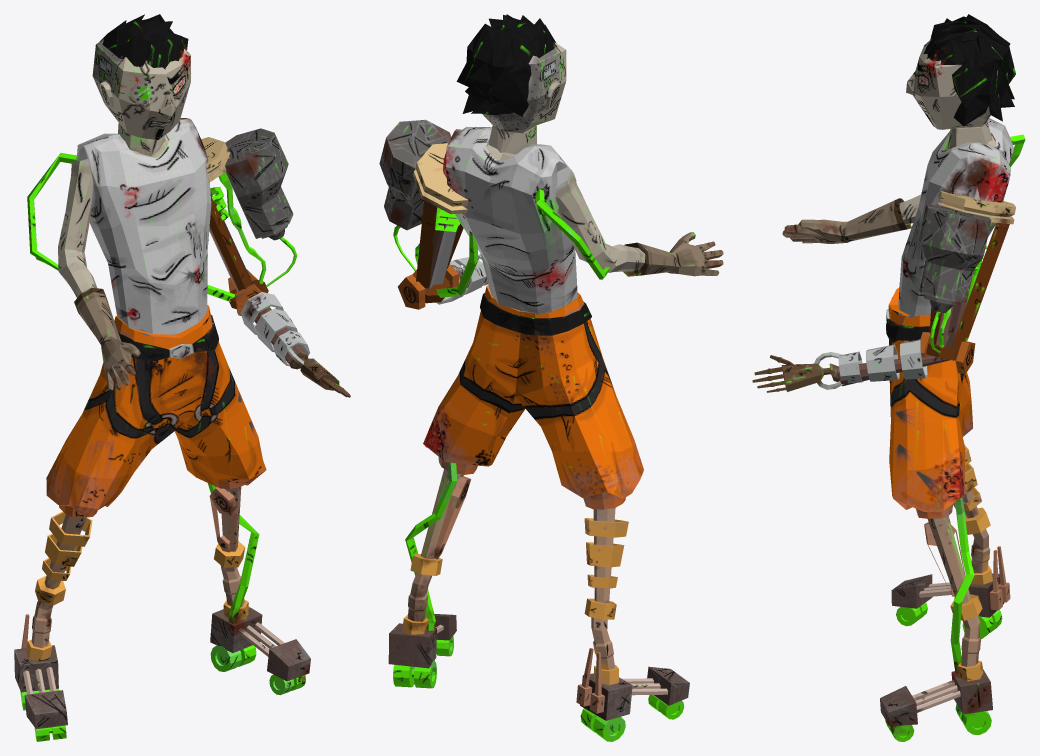
File: CyborgFINALAnimation_000003.obj
The picture shows the model from 3 angles, left to right: view 1: azimuth 30°, elevation 25°; view 2: azimuth 150°, elevation 25°; view 3: azimuth 270°, elevation 25°; orthographic projection. The views are drawn at different scales.
Parts seen in each view (by area): view 1: CyborgMesh_Cube.002; view 2: CyborgMesh_Cube.002; view 3: CyborgMesh_Cube.002.
Part boxes in pixels (left/top/right/bottom): CyborgMesh_Cube.002: left=14, top=14, right=350, bottom=741; CyborgMesh_Cube.002: left=379, top=14, right=723, bottom=741; CyborgMesh_Cube.002: left=752, top=14, right=1025, bottom=741.
Bounding box in the file's own units: 4.11 × 9.6 × 3.58.
